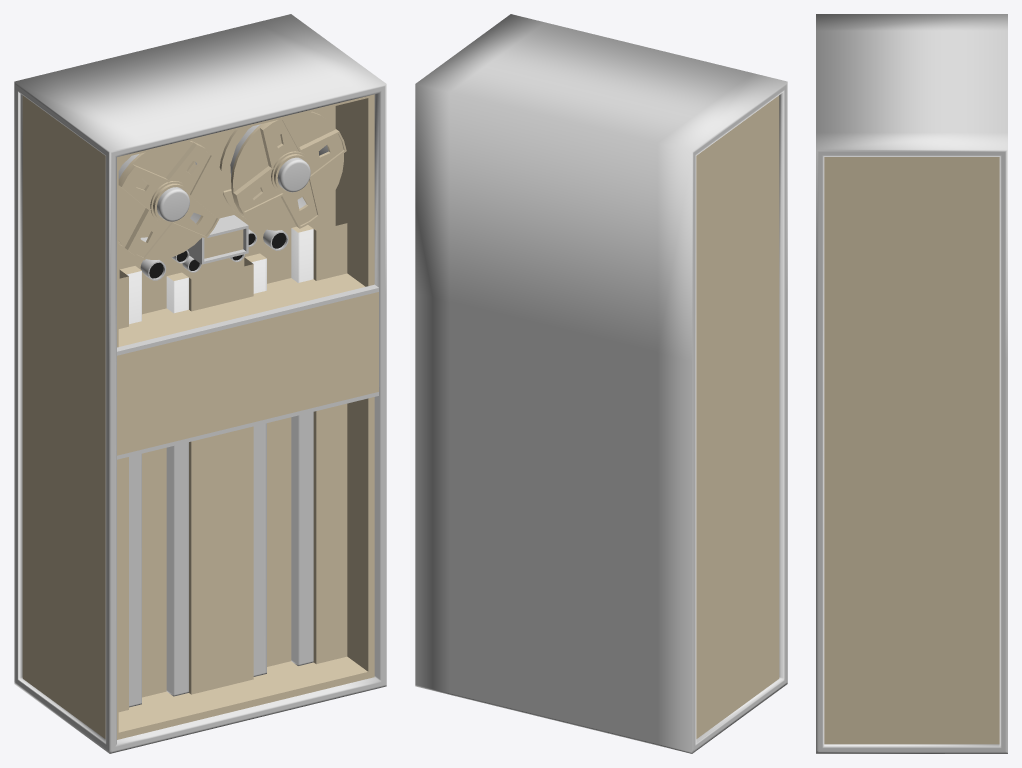
Rendered from drives_unity.fbx.
The picture shows the model from 3 angles, left to right: view 1: azimuth 30°, elevation 25°; view 2: azimuth 150°, elevation 25°; view 3: azimuth 270°, elevation 25°; orthographic projection.
Parts seen in each view (by area): view 1: Cube.002, Cube.001, Cube.306, Circle.002, Circle, Circle.003, Circle.001, Circle.006; view 2: Cube.001, Cube.002; view 3: Cube.002, Cube.001.
Boxes of the visible parts, x1,y1,x2,y2 form: Cube.002: (22,94,374,739); Cube.001: (14,14,386,753); Cube.306: (117,229,378,455); Circle.002: (231,111,346,230); Circle: (118,141,222,260); Circle.003: (277,157,310,192); Circle.001: (157,187,189,221); Circle.006: (219,111,318,216); Cube.001: (415,14,787,753); Cube.002: (696,95,779,738); Cube.002: (824,157,999,744); Cube.001: (816,14,1007,753).
Bounding box in the file's own units: 275 × 572 × 165.
